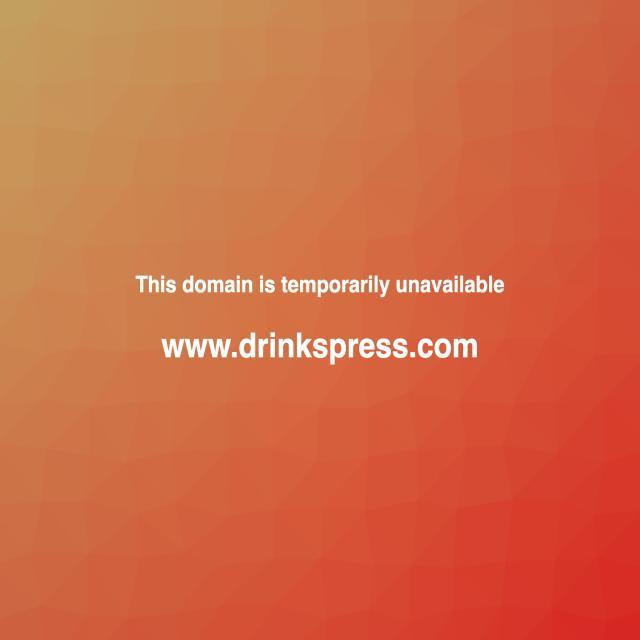link: (157, 333, 483, 367)
text: (126, 270, 507, 300)
